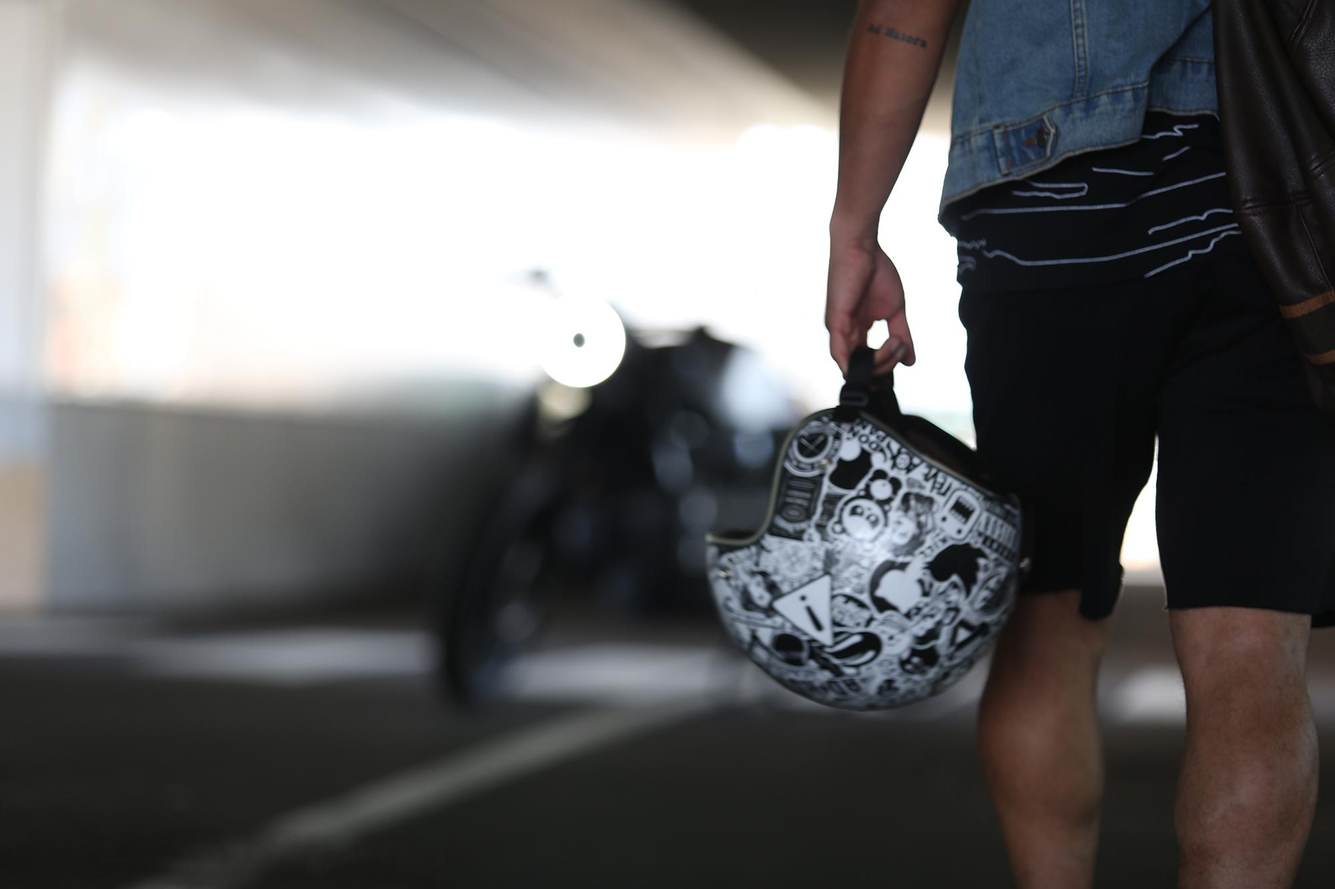helmet: (702, 341, 1033, 713)
